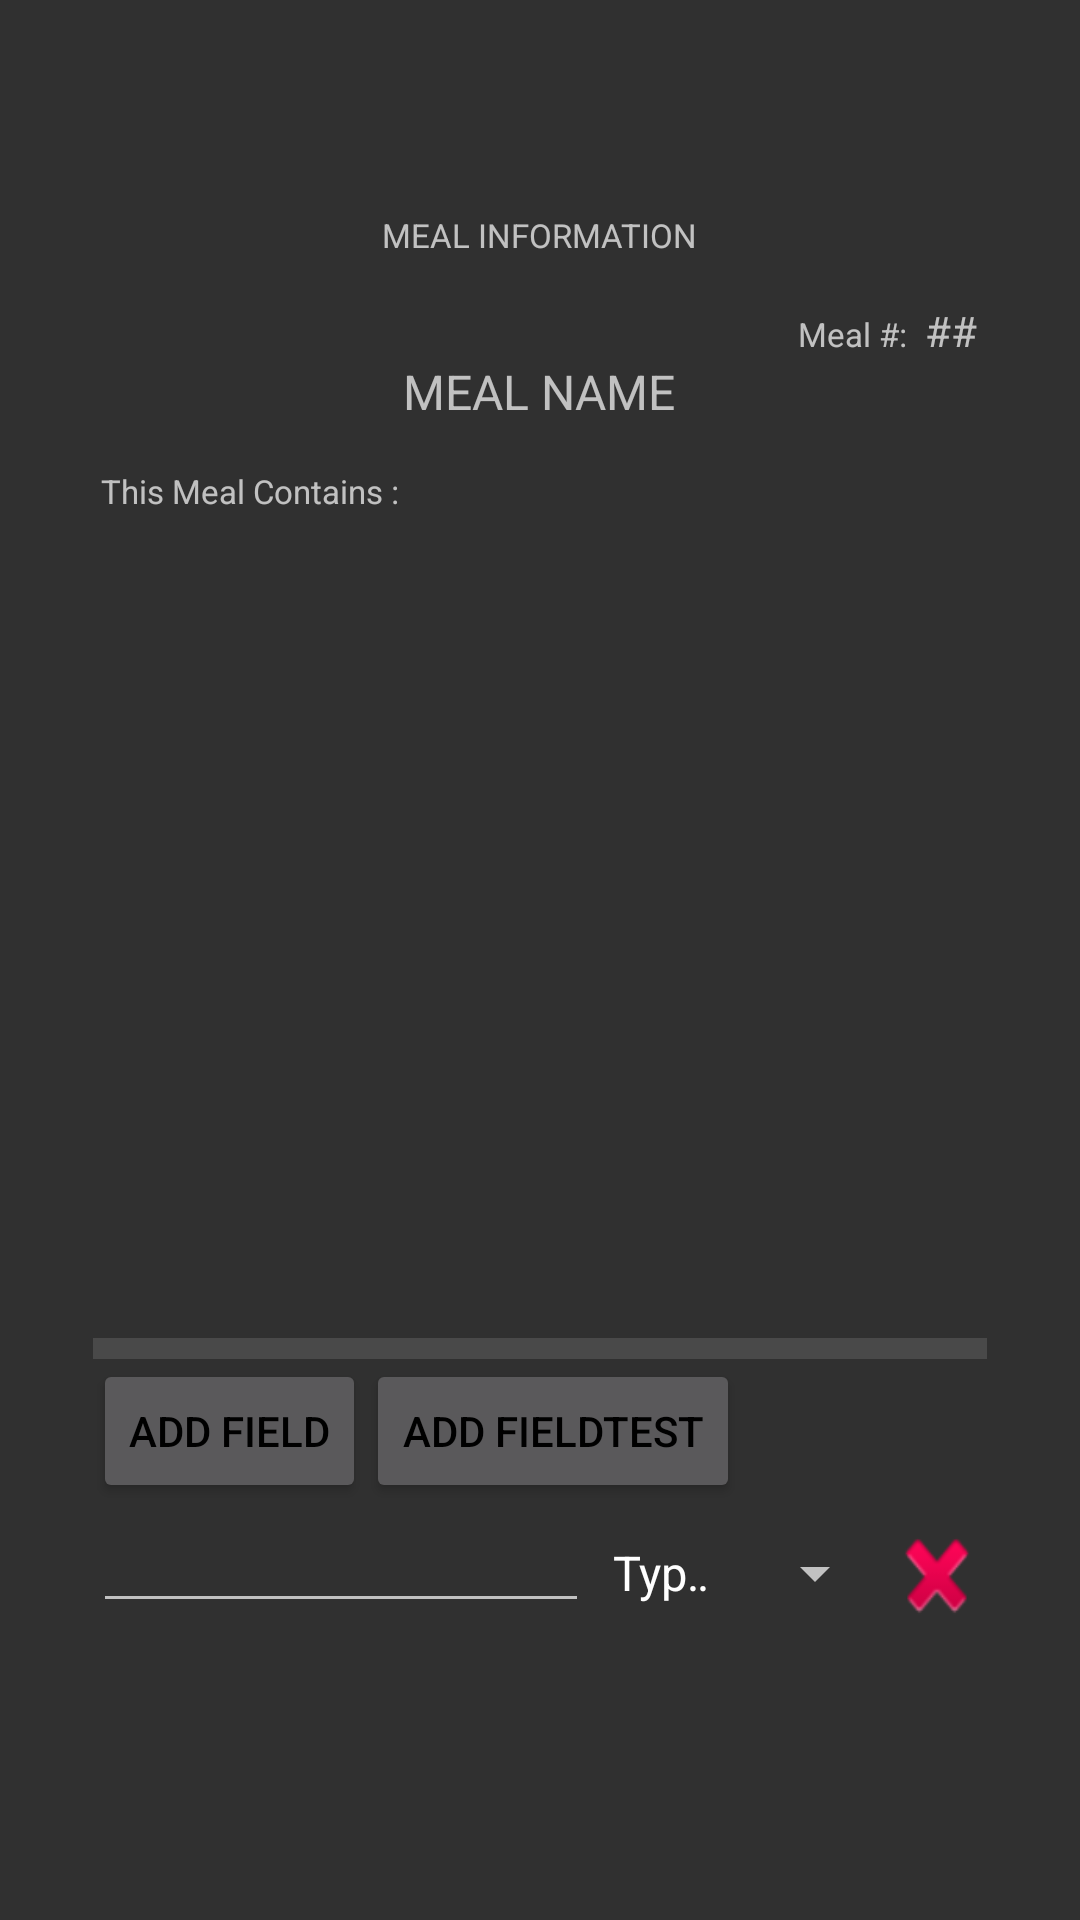

Named icons in this screenshot (1080x1920) and their bounding boxes, box=[x1, y1, x2, y2]:
delete: box=[905, 1539, 969, 1613]
